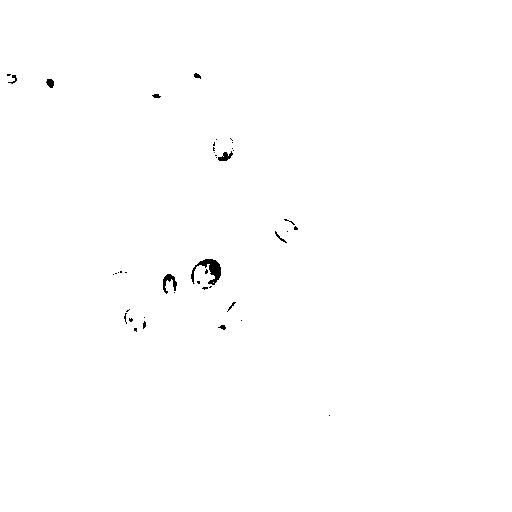micro-algae: (347, 92, 390, 133), (448, 359, 484, 396), (34, 64, 67, 97), (191, 257, 223, 291), (224, 297, 253, 331), (289, 79, 318, 107), (272, 217, 302, 243), (107, 269, 138, 292), (122, 304, 147, 332), (214, 133, 235, 163), (162, 273, 177, 296), (192, 68, 206, 83), (2, 72, 18, 84)
